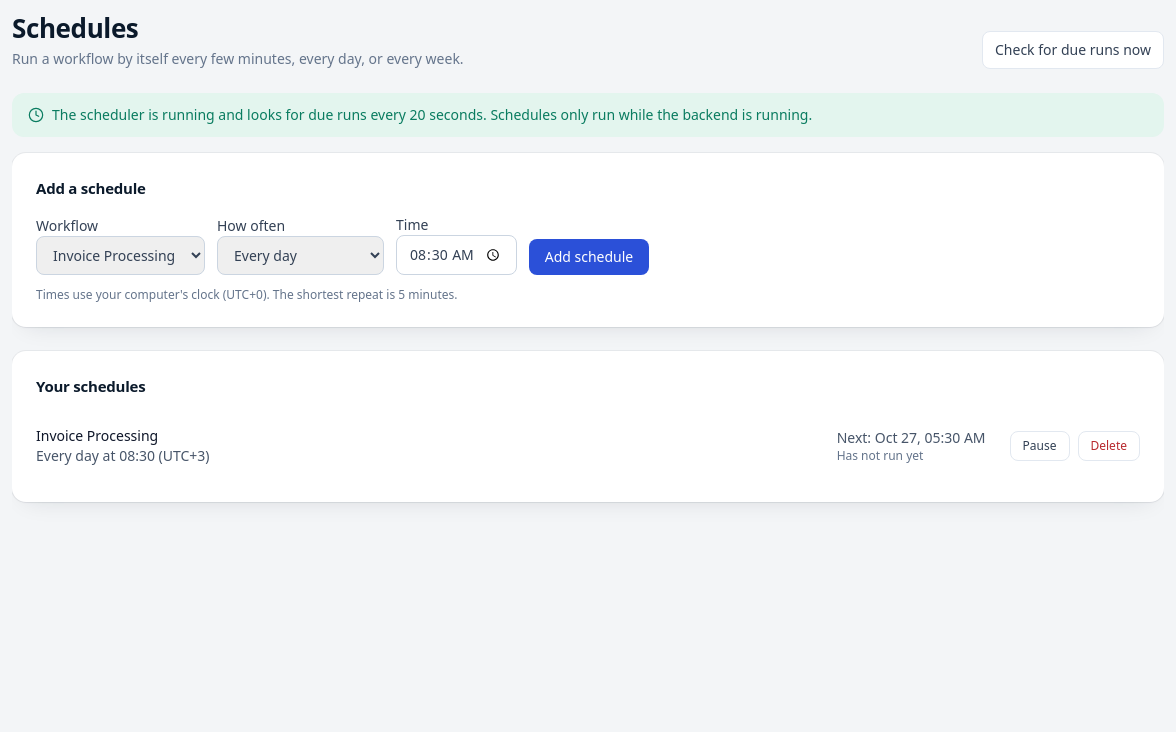
adds a daily schedule using the chosen time and the computer's time zone
Check: the text "Every day at 08:30 (UTC+3)" is shown, box [36,446,210,464]
Step 1. Replace the text in the time field labelled "Time" with "09:15" → (456, 255), box [396,235,517,275]
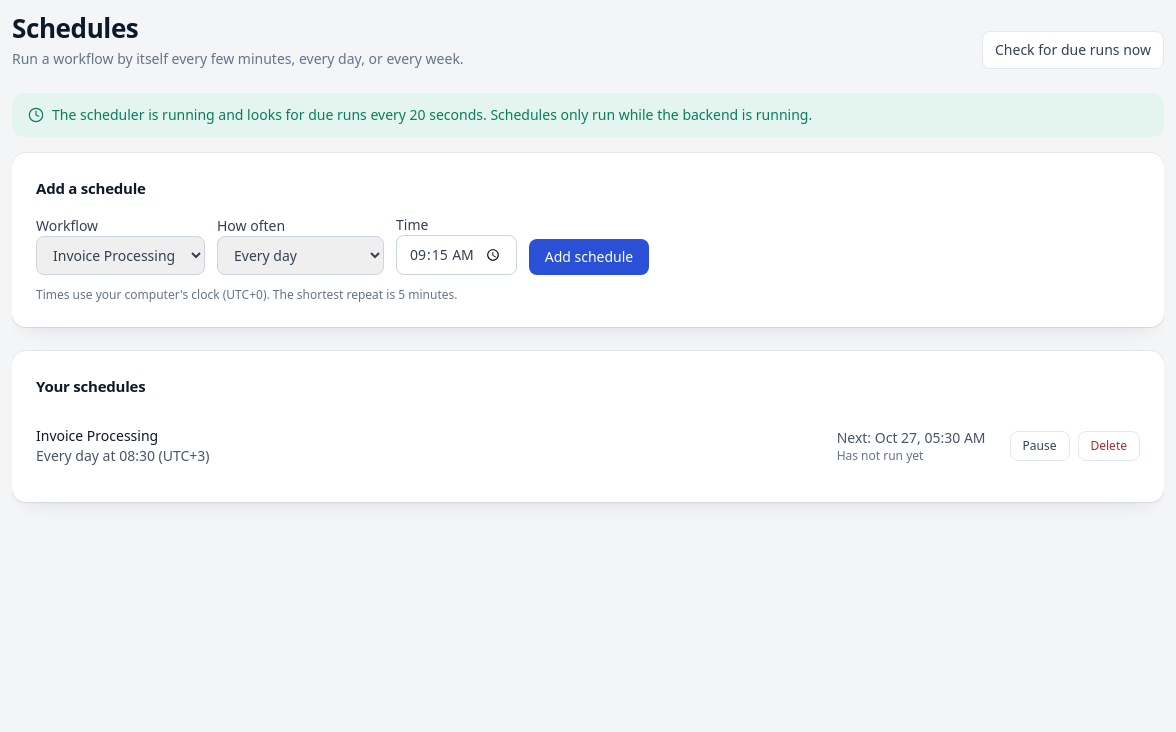
Step 2. Click the button "Add schedule" → (589, 257), box [529,239,649,275]
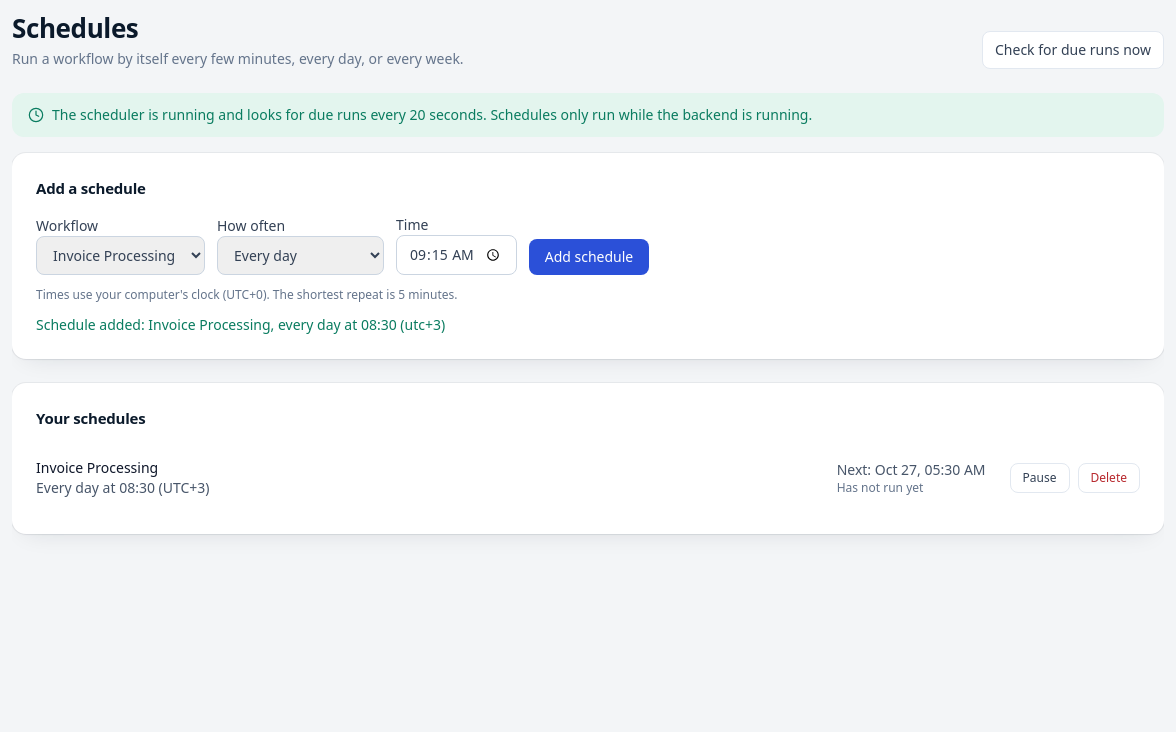
Check: the text "Schedule added: Invoice Processing, every day at 08:30 (utc+3)" is shown, box [36,315,445,334]
